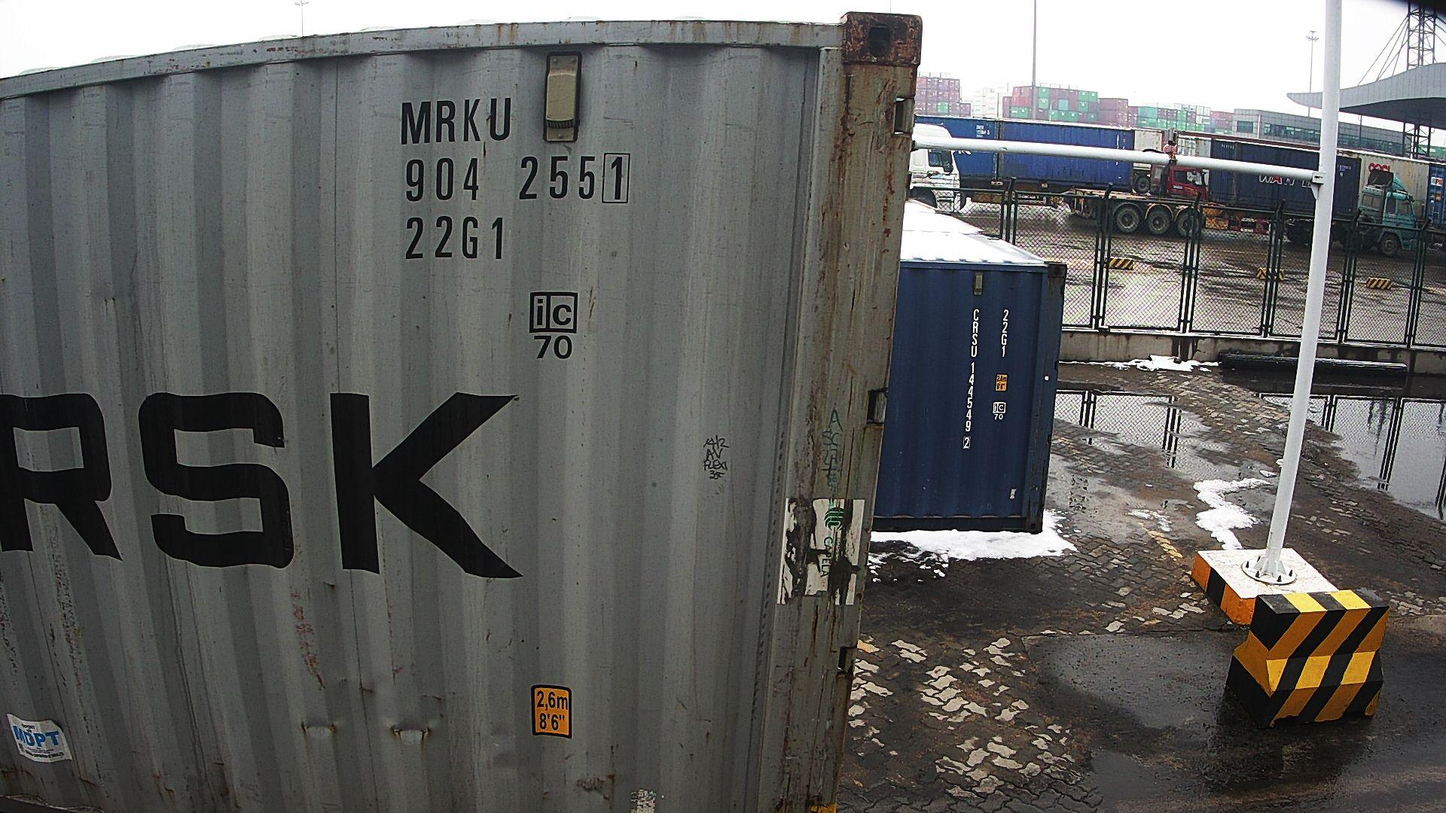container-numbers: (401, 150, 635, 207), (396, 94, 517, 149), (401, 212, 510, 264), (959, 306, 979, 453), (998, 307, 1013, 359)
